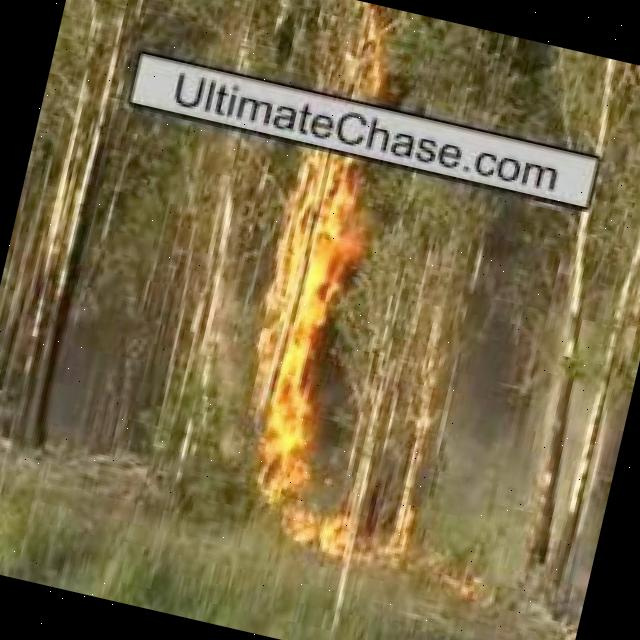fire: (242, 152, 372, 426), (232, 422, 380, 570), (338, 9, 403, 100)
